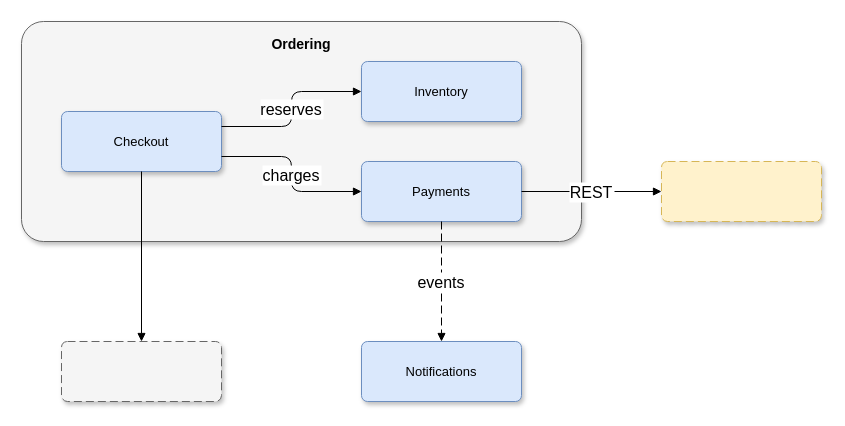
Image size: 845x426. Some labels were removed from this diagram. The centre of each missing label's shape, as x and y in pixels:
"Payment Gateway" goes at point (742, 192).
"Shared Kernel" goes at point (142, 372).
